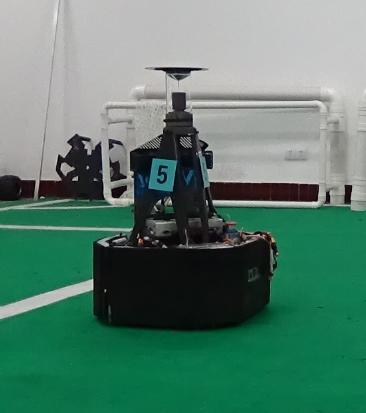robot: (89, 56, 273, 332)
